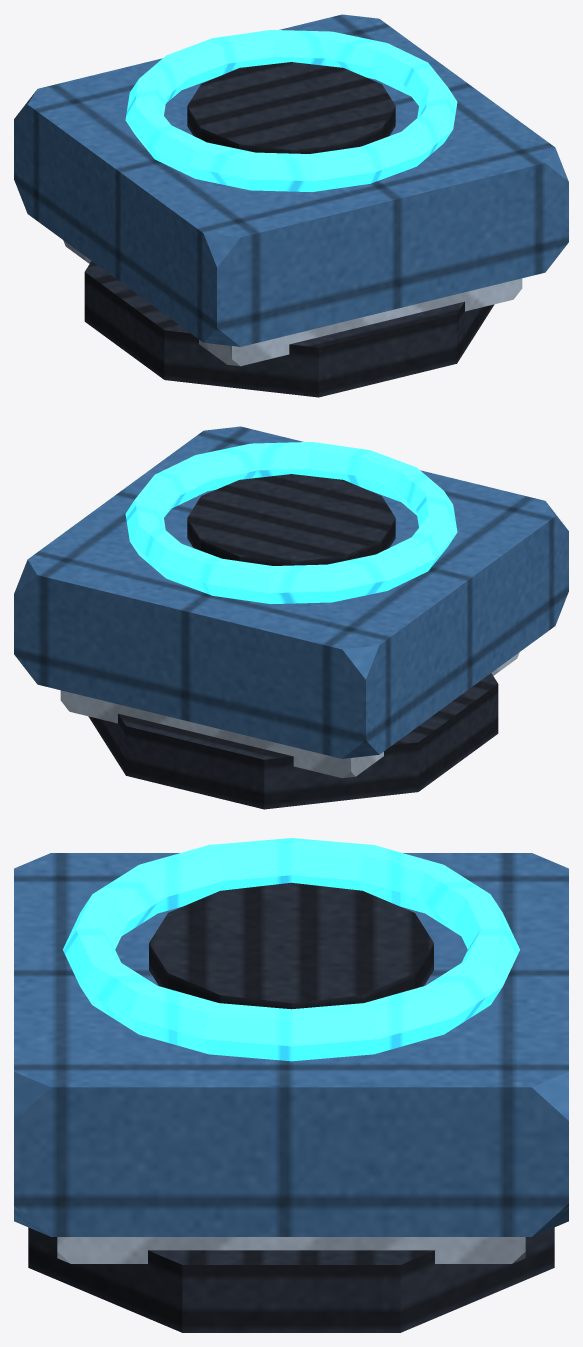
Rendered from eq_defense_drone_bay.glb.
The picture shows the model from 3 angles, top to bottom: view 1: azimuth 30°, elevation 25°; view 2: azimuth 150°, elevation 25°; view 3: azimuth 270°, elevation 25°; orthographic projection. The views are drawn at different scales.
Visible parts, largest first — view 1: eq_defense_drone_bay; view 2: eq_defense_drone_bay; view 3: eq_defense_drone_bay.
Boxes of the visible parts, box(x1,y1,x2,y2) form: eq_defense_drone_bay: box(14, 14, 568, 397); eq_defense_drone_bay: box(14, 426, 568, 809); eq_defense_drone_bay: box(14, 838, 568, 1332).
Size of the model in its own units: 1.48 by 0.8606 by 1.48.
Materials: 1 (1 with a texture image).
